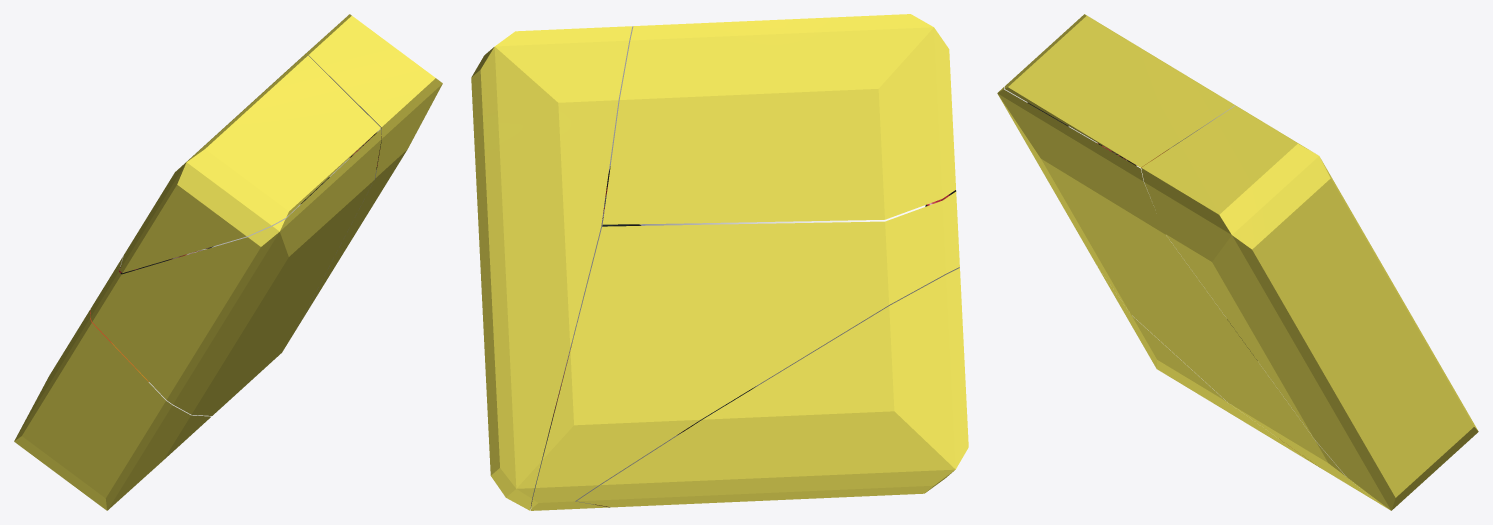
File: Sofa_Goi_DEST.fbx
3 renders of one model, left to right at view 1: azimuth 30°, elevation 25°; view 2: azimuth 150°, elevation 25°; view 3: azimuth 270°, elevation 25°, orthographic. The views are drawn at different scales.
Visible parts, largest first — view 1: model:mesh954963458_cell.003, model:mesh954963458_cell.001, model:mesh954963458_cell.002, model:mesh954963458_cell; view 2: model:mesh954963458_cell.001, model:mesh954963458_cell.003, model:mesh954963458_cell, model:mesh954963458_cell.002; view 3: model:mesh954963458_cell, model:mesh954963458_cell.003, model:mesh954963458_cell.001, model:mesh954963458_cell.002.
Boxes of the visible parts, x1,y1,x2,y2 form: model:mesh954963458_cell.003: (90, 129, 381, 415); model:mesh954963458_cell.001: (119, 55, 380, 273); model:mesh954963458_cell.002: (14, 309, 211, 510); model:mesh954963458_cell: (277, 14, 442, 326); model:mesh954963458_cell.001: (602, 14, 955, 224); model:mesh954963458_cell.003: (531, 190, 959, 510); model:mesh954963458_cell: (471, 26, 633, 510); model:mesh954963458_cell.002: (577, 268, 968, 507); model:mesh954963458_cell: (1141, 106, 1478, 510); model:mesh954963458_cell.003: (997, 87, 1375, 501); model:mesh954963458_cell.001: (1004, 14, 1245, 167); model:mesh954963458_cell.002: (1097, 266, 1319, 467).
Bounding box in the file's own units: 1.26 × 1.07 × 1.18.
